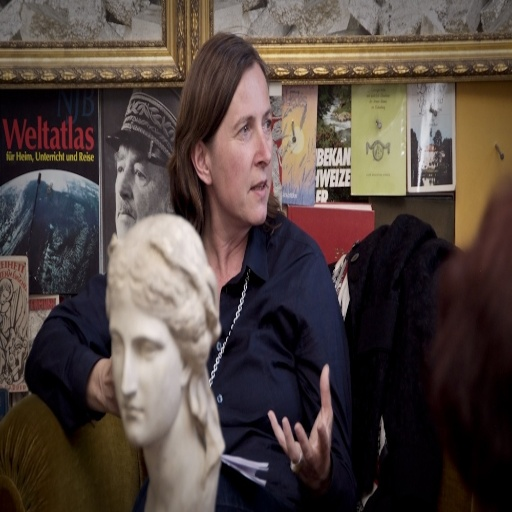hand: (275, 384, 342, 495), (99, 353, 122, 422)
